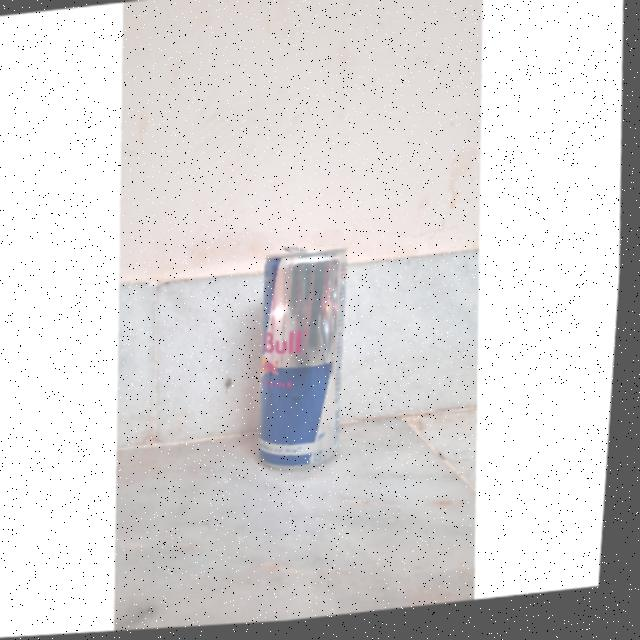Redbull: (245, 244, 369, 475)
